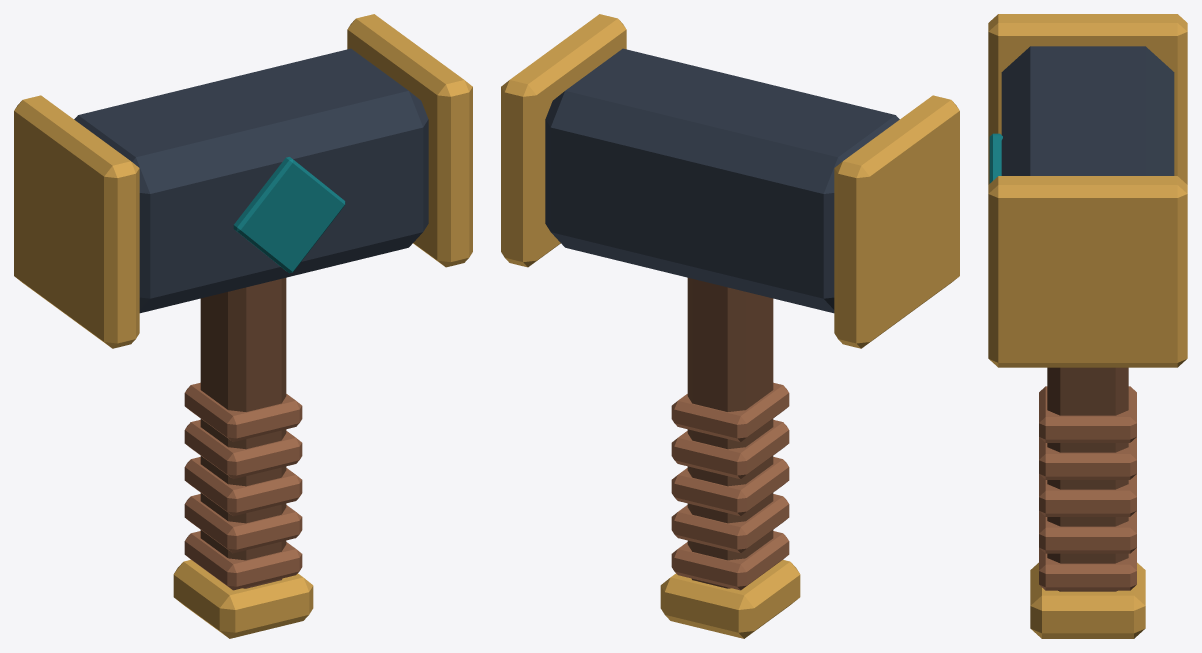
The model's file is 16_Upgrade_Hammer.glb.
3 renders of one model, left to right at view 1: azimuth 30°, elevation 25°; view 2: azimuth 150°, elevation 25°; view 3: azimuth 270°, elevation 25°, orthographic.
Parts seen in each view (by area): view 1: 16_Upgrade_Hammer__Body; view 2: 16_Upgrade_Hammer__Body; view 3: 16_Upgrade_Hammer__Body.
Part boxes in pixels (left/top/right/bottom): 16_Upgrade_Hammer__Body: left=14, top=14, right=472, bottom=638; 16_Upgrade_Hammer__Body: left=501, top=14, right=959, bottom=638; 16_Upgrade_Hammer__Body: left=988, top=14, right=1187, bottom=638.
Bounding box in the file's own units: 1.77 × 2.4 × 0.83.
Materials: 1 (1 with a texture image).
